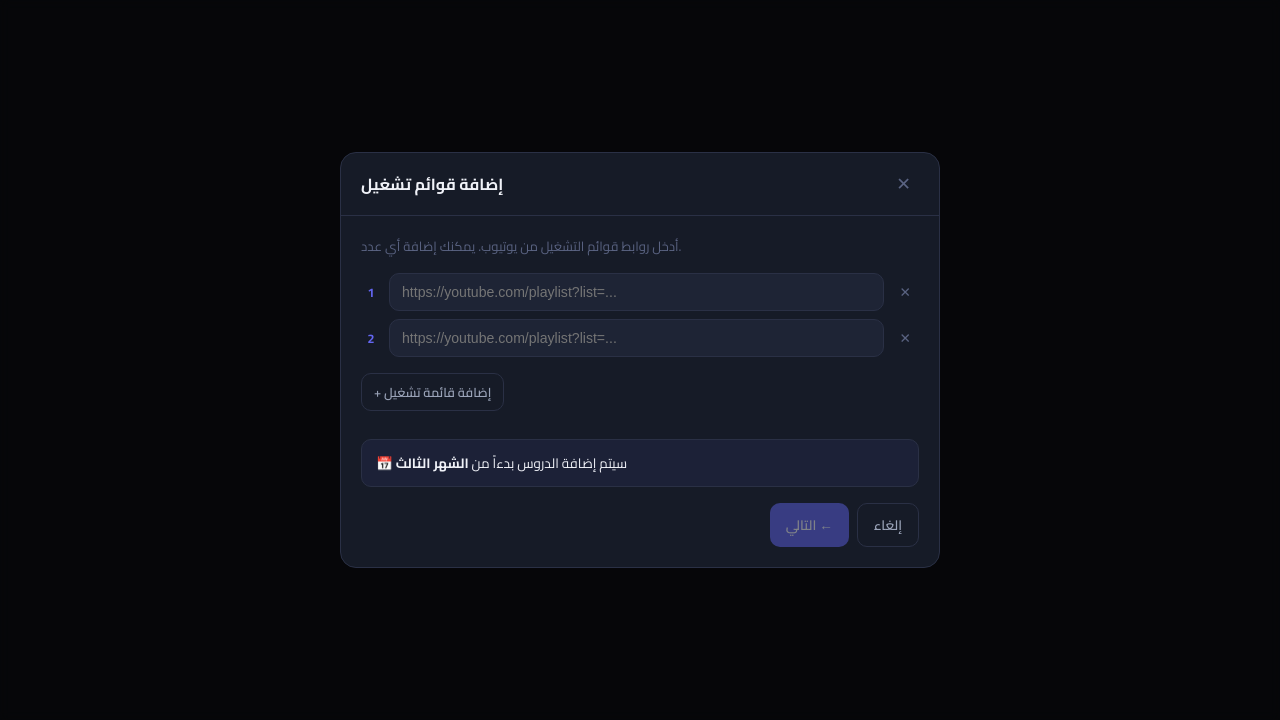
AddPlaylistsModal › adds a playlist input row on button click
Click the button "+ إضافة قائمة تشغيل".
click(433, 392)  # box [361,373,504,411]
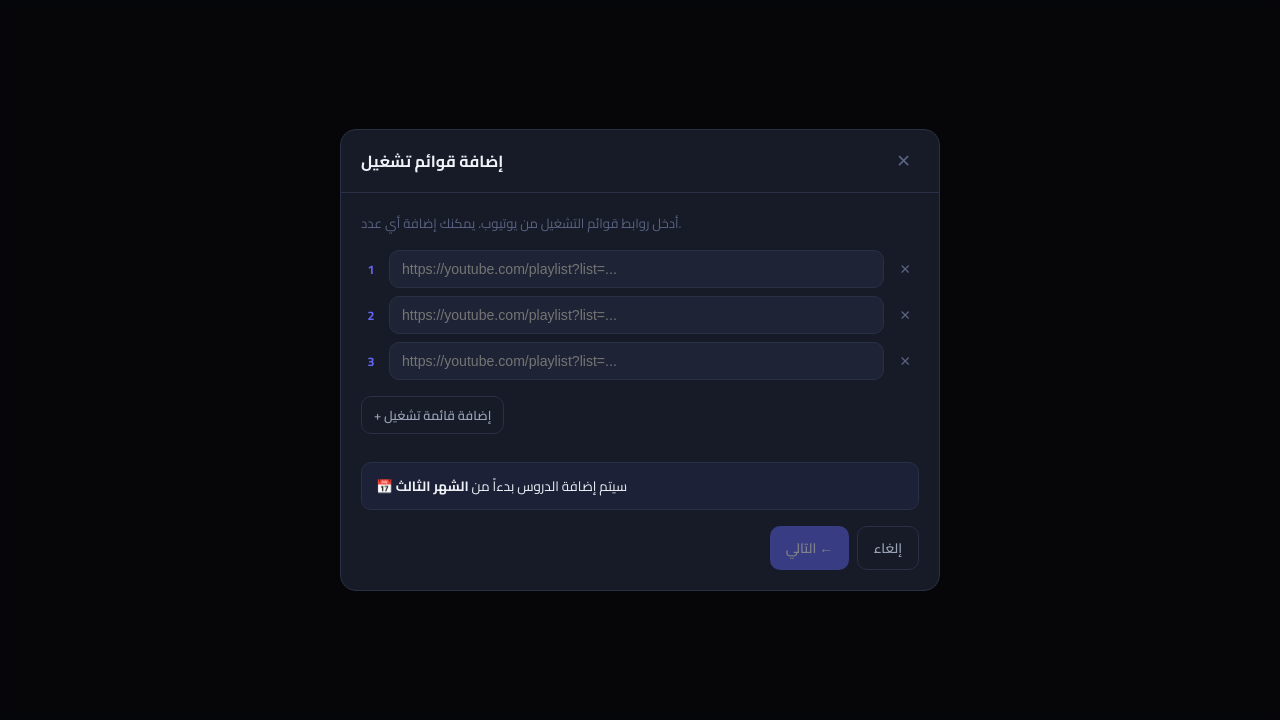
Result: the number of fields with placeholder "https://youtube.com/playlist?list=..." is 3 at [389,250,884,288]; [389,296,884,334]; [389,342,884,380]
